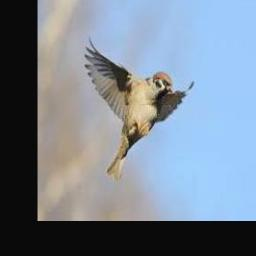Sparrow: (86, 37, 194, 181)
